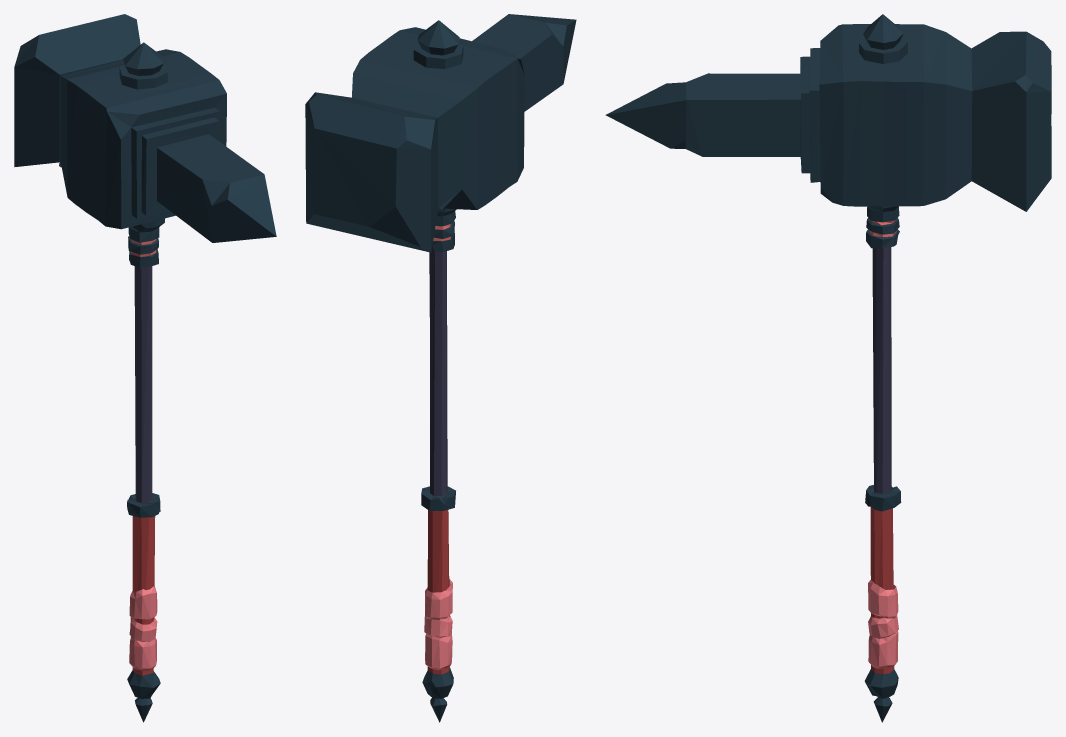
Rendered from SFFA_Weapon_Hammer_Gold_001.fbx.
3 views of the same model, side by side, from view 1: azimuth 30°, elevation 25°; view 2: azimuth 150°, elevation 25°; view 3: azimuth 270°, elevation 25° (orthographic). The views are drawn at different scales.
Parts seen in each view (by area): view 1: SFFA_Weapon_Hammer_Gold_001; view 2: SFFA_Weapon_Hammer_Gold_001; view 3: SFFA_Weapon_Hammer_Gold_001.
Boxes of the visible parts, x1,y1,x2,y2 form: SFFA_Weapon_Hammer_Gold_001: [14, 14, 276, 722]; SFFA_Weapon_Hammer_Gold_001: [305, 14, 576, 722]; SFFA_Weapon_Hammer_Gold_001: [605, 14, 1051, 722].
Bounding box in the file's own units: 16.84 × 90.25 × 51.47.
